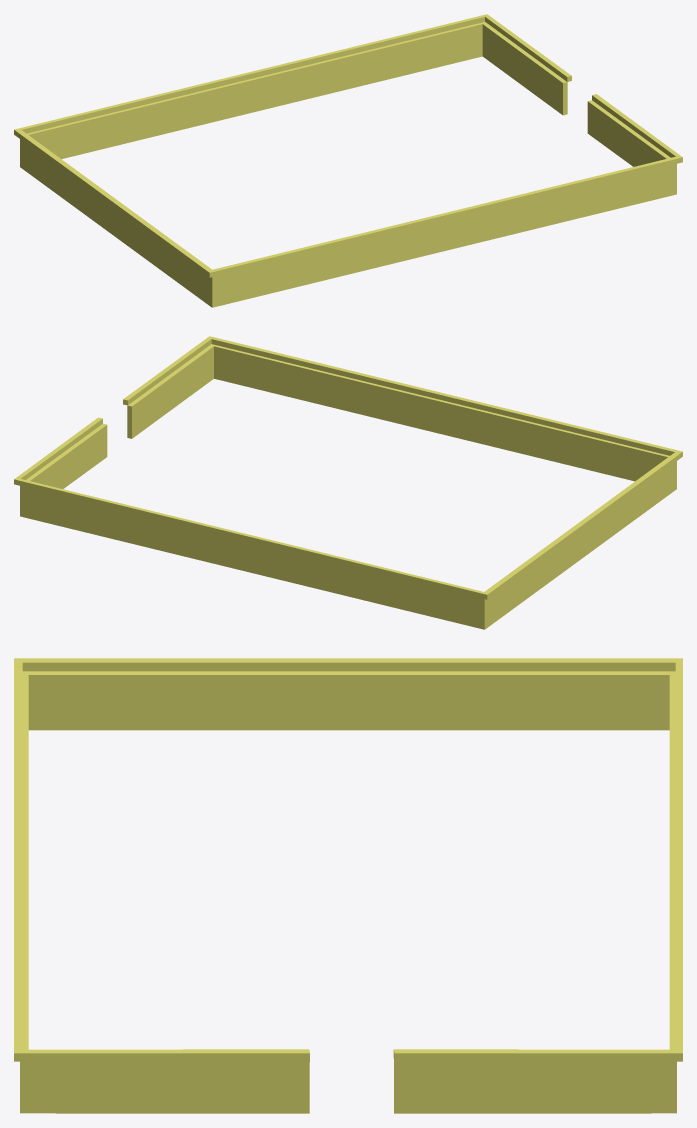
File: Wall.fbx
3 views of the same model, one above another, from view 1: azimuth 30°, elevation 25°; view 2: azimuth 150°, elevation 25°; view 3: azimuth 270°, elevation 25° (orthographic). The views are drawn at different scales.
Parts seen in each view (by area): view 1: Plane.001; view 2: Plane.001; view 3: Plane.001.
Boxes of the visible parts, x1,y1,x2,y2 form: Plane.001: (14, 14, 682, 307); Plane.001: (14, 336, 682, 629); Plane.001: (14, 658, 682, 1113).
Size of the model in its own units: 22145 by 1670 by 15849.
